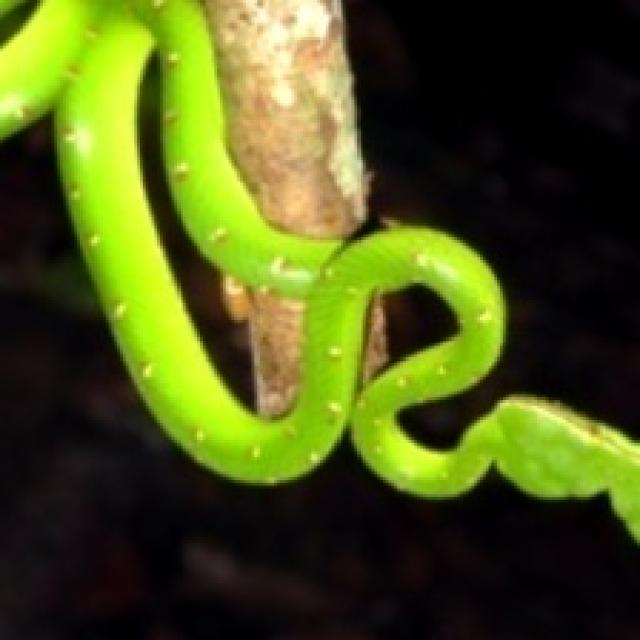north ph temple pitviper: (0, 0, 640, 531)
